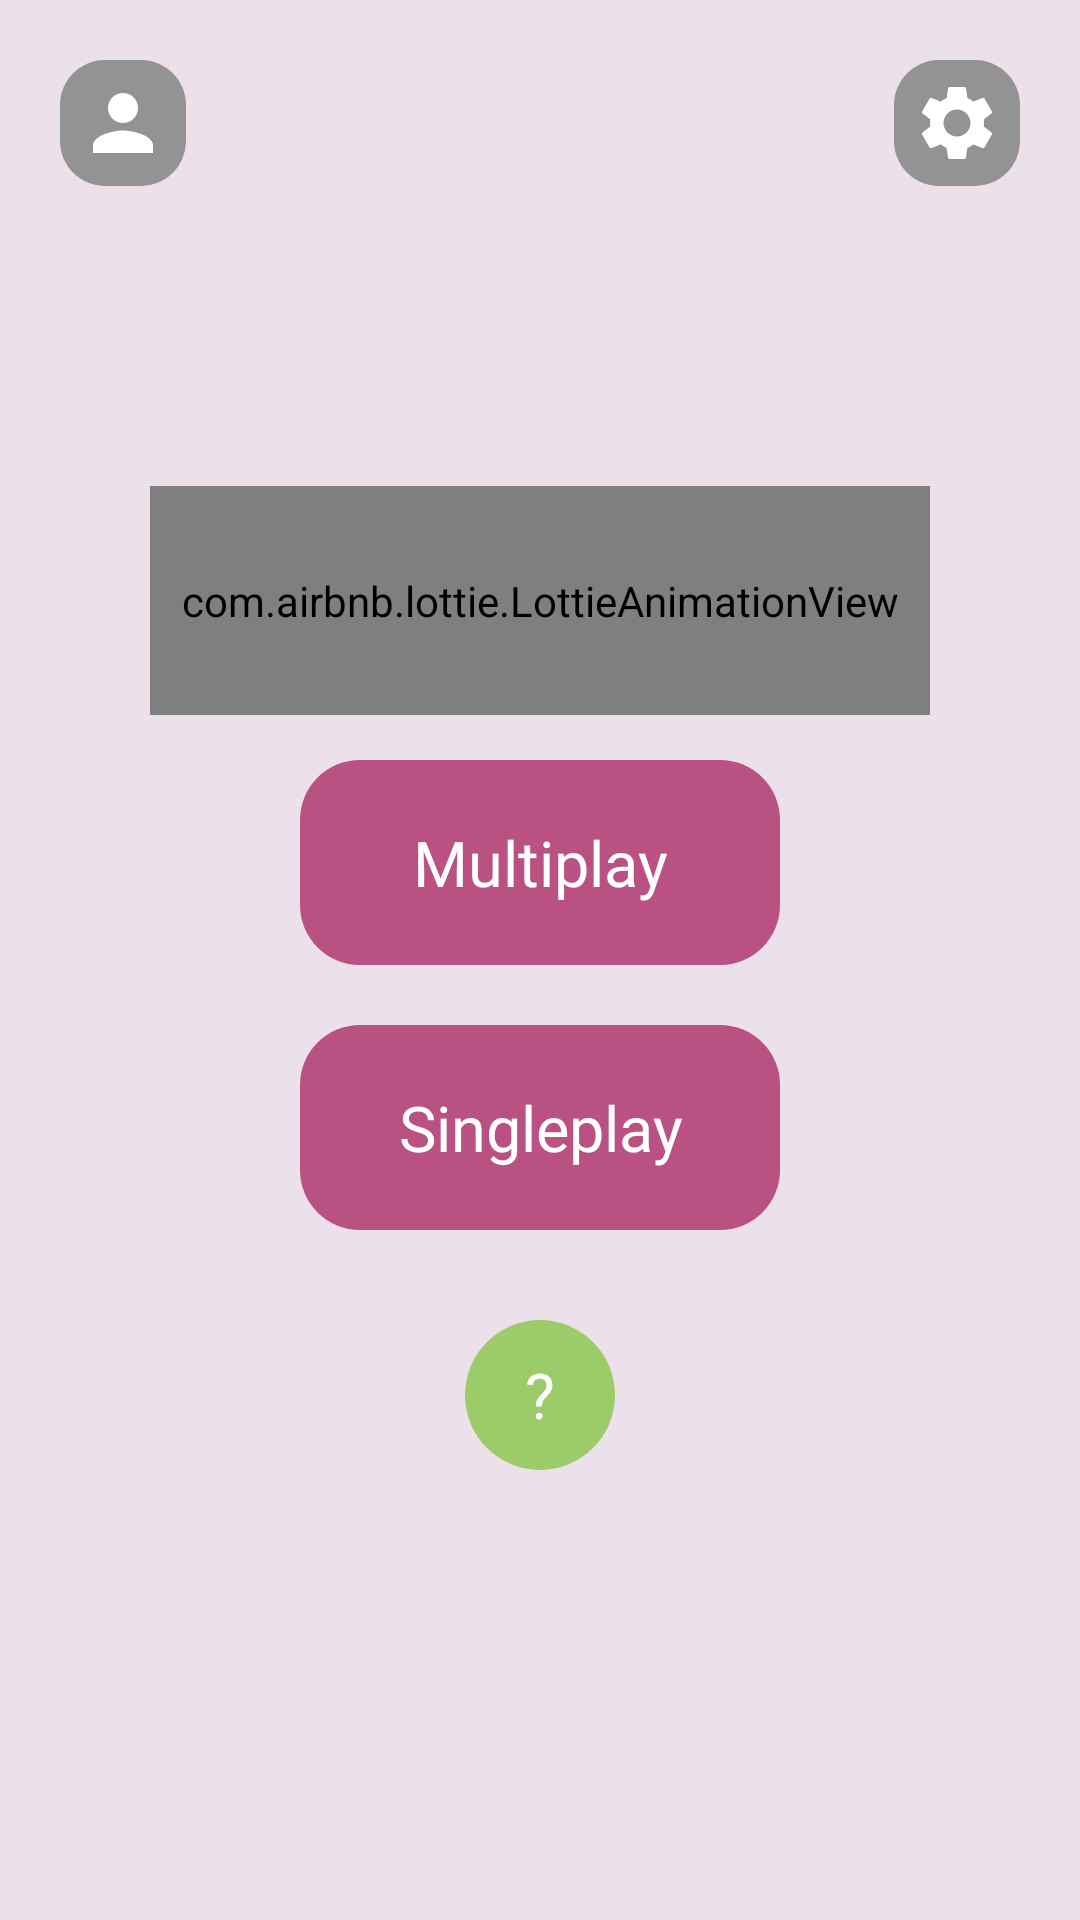

Where icons sit on this 1080×1920 app screen, as (x1, y1, x2, y2):
friend: (60, 60, 186, 186)
setting: (894, 60, 1020, 186)
